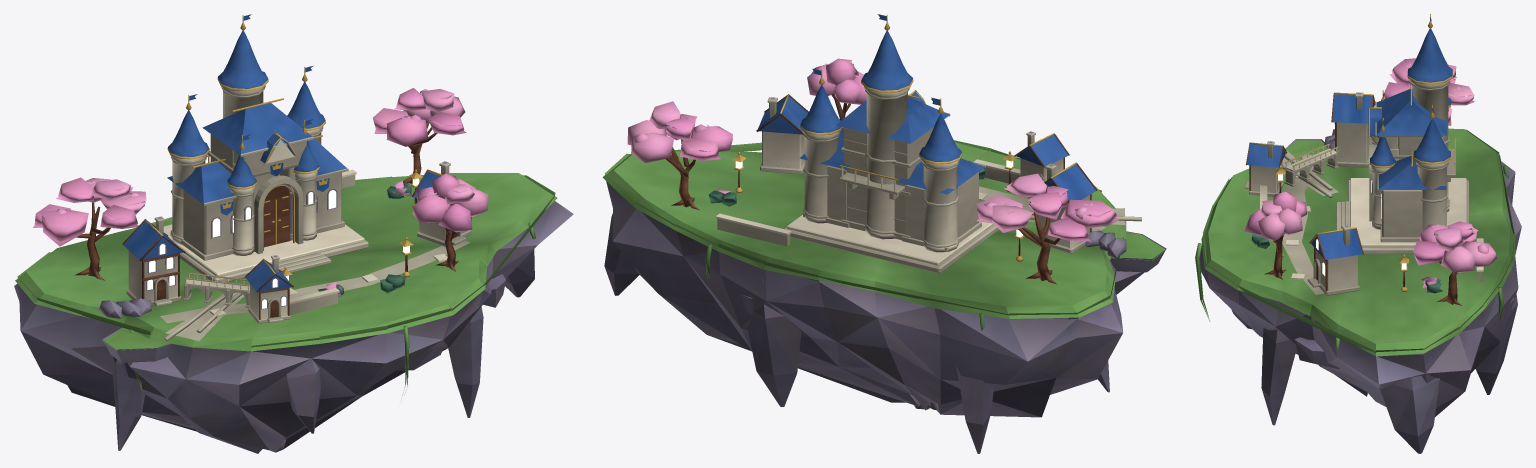
Rendered from royal-island-left-background-v1-low.glb.
The picture shows the model from 3 angles, left to right: view 1: azimuth 30°, elevation 25°; view 2: azimuth 150°, elevation 25°; view 3: azimuth 270°, elevation 25°; orthographic projection. The views are drawn at different scales.
Parts seen in each view (by area): view 1: royal-island-left-background-v1; view 2: royal-island-left-background-v1; view 3: royal-island-left-background-v1.
Part boxes in pixels (<box>): royal-island-left-background-v1: <box>14,14,573,453</box>; royal-island-left-background-v1: <box>602,14,1166,453</box>; royal-island-left-background-v1: <box>1195,14,1521,453</box>.
Size of the model in its own units: 20.12 by 14.91 by 11.63.
10 materials, 10 textured.
